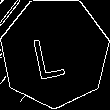L_N: (35, 25, 75, 80)
